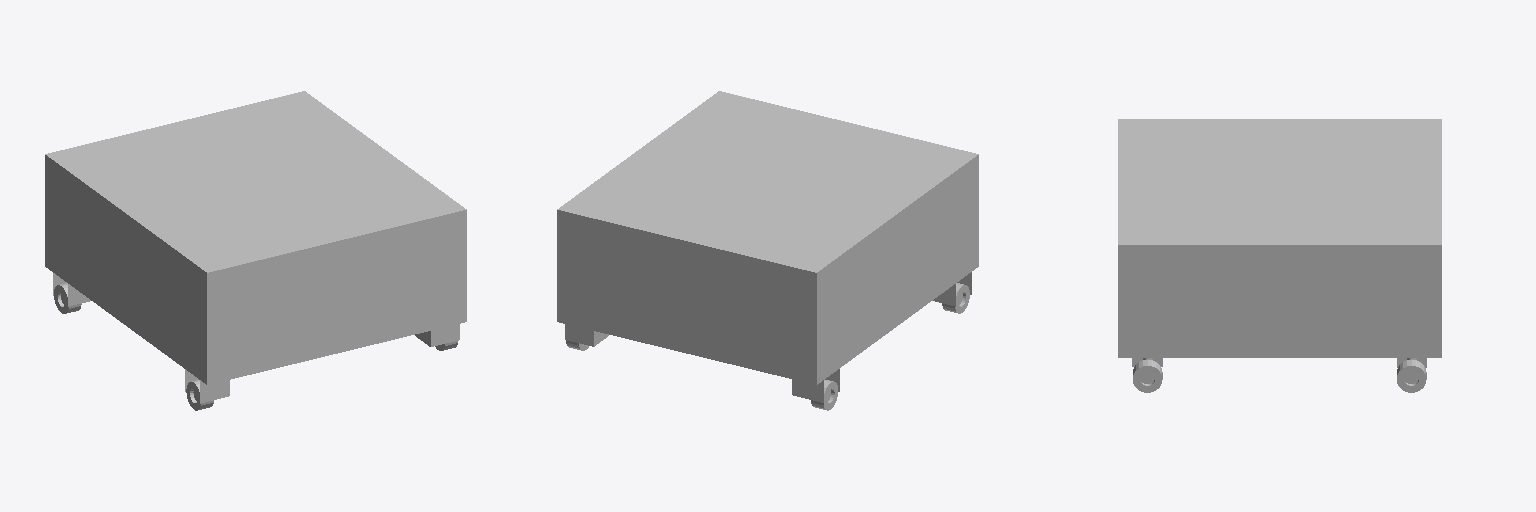
File: platform1.obj
3 renders of one model, left to right at view 1: azimuth 30°, elevation 25°; view 2: azimuth 150°, elevation 25°; view 3: azimuth 270°, elevation 25°, orthographic.
Parts seen in each view (by area): view 1: pPrism2; view 2: pPrism2; view 3: pPrism2, group49 group48 pPipe1, group47 pPipe1.
Part boxes in pixels (left/top/right/bottom): pPrism2: left=45, top=91, right=466, bottom=403; pPrism2: left=557, top=91, right=978, bottom=402; pPrism2: left=1118, top=119, right=1441, bottom=367; group49 group48 pPipe1: left=1397, top=359, right=1426, bottom=392; group47 pPipe1: left=1133, top=359, right=1162, bottom=392.
Bounding box in the file's own units: 60 × 32.7 × 64.91.